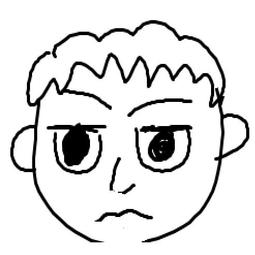ear: (8, 118, 40, 174), (218, 112, 252, 159)
eye: (129, 123, 198, 174), (47, 117, 105, 174)
eyebrow: (124, 91, 197, 116)
frowning_eyebrow: (64, 86, 115, 109)
line_unsmiling_mouth: (89, 206, 159, 226)
nose: (105, 156, 135, 198)
